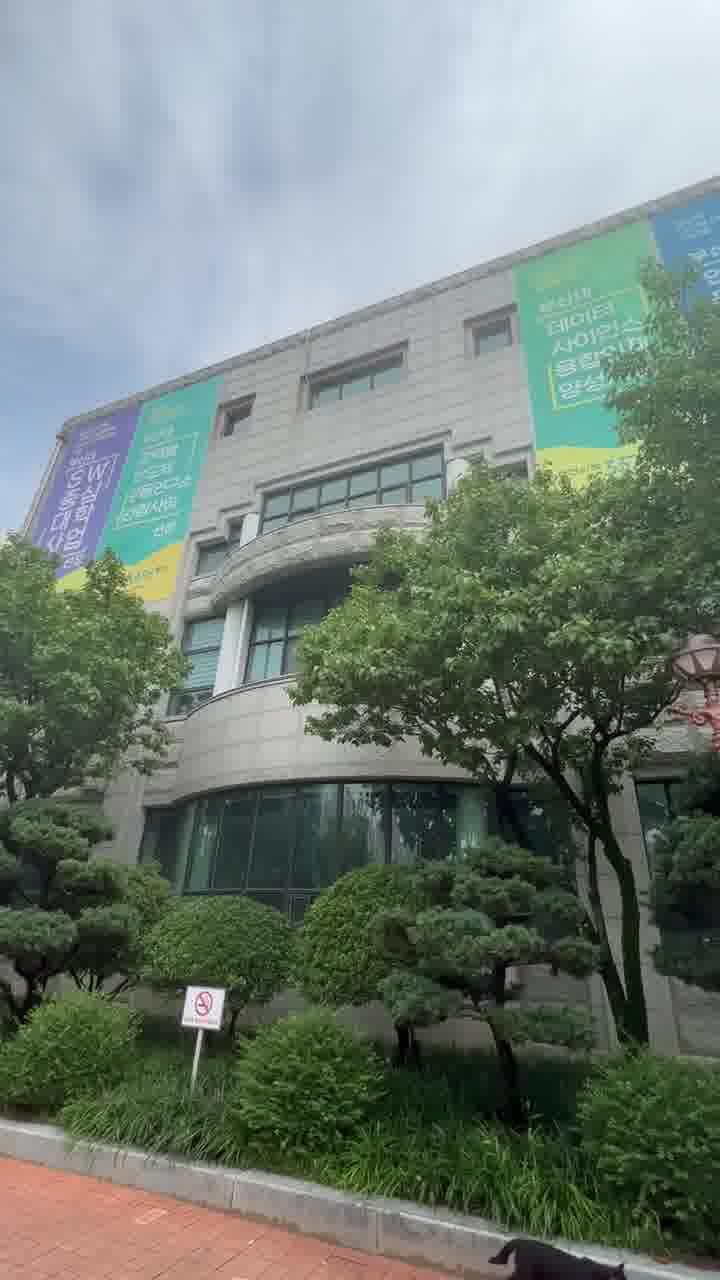building: (154, 294, 448, 830)
